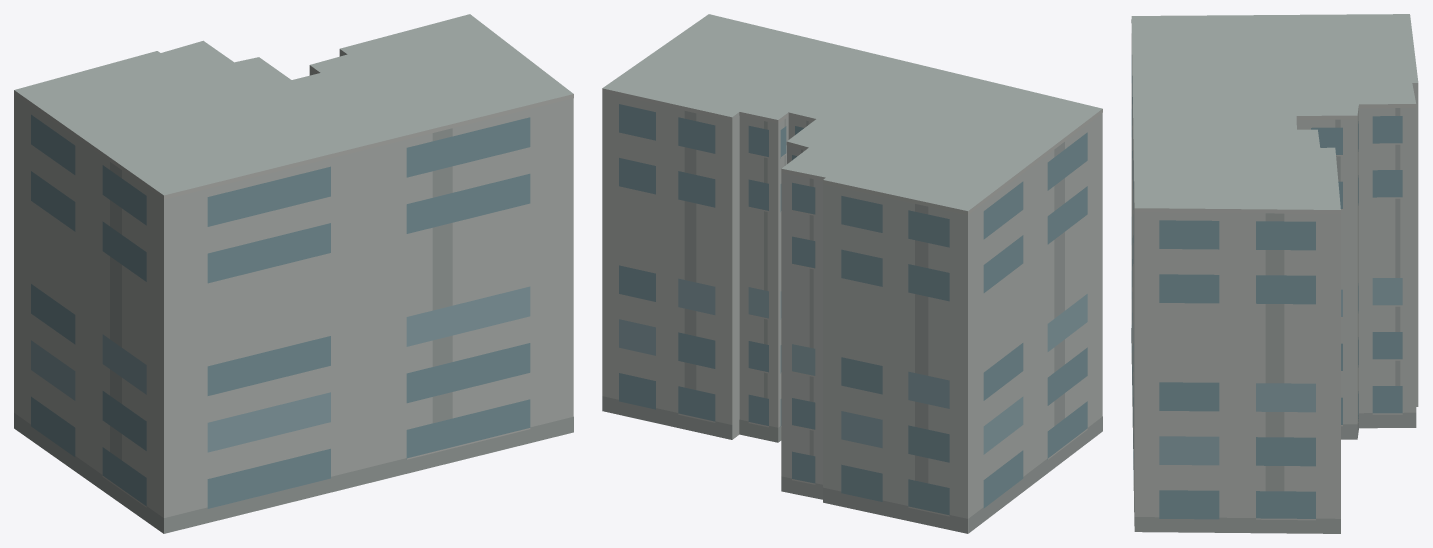
Rendered from survey-upis-32910578.glb.
3 renders of one model, left to right at view 1: azimuth 30°, elevation 25°; view 2: azimuth 150°, elevation 25°; view 3: azimuth 270°, elevation 25°, orthographic. The views are drawn at different scales.
Parts seen in each view (by area): view 1: survey-upis-32910578.tmp; view 2: survey-upis-32910578.tmp; view 3: survey-upis-32910578.tmp.
Part boxes in pixels (box(x1,y1,x2,y2)): survey-upis-32910578.tmp: box(14, 14, 573, 533); survey-upis-32910578.tmp: box(602, 14, 1102, 533); survey-upis-32910578.tmp: box(1131, 14, 1418, 533).
Size of the model in its own units: 25.36 by 19.52 by 15.69.
